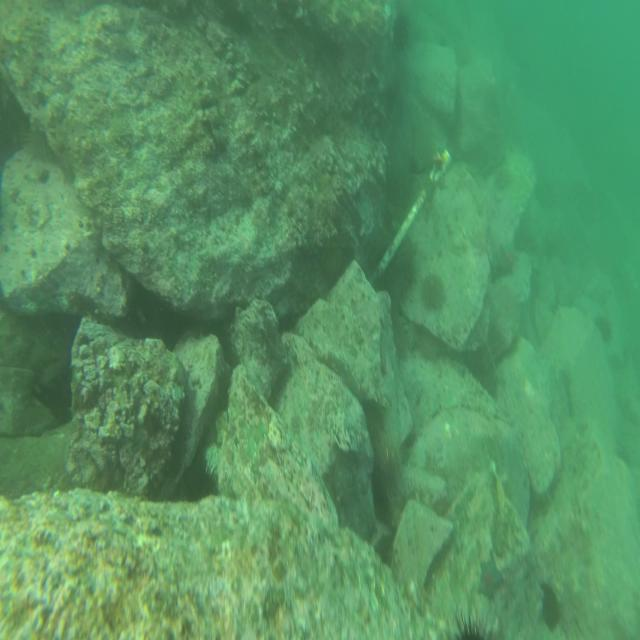echinus: (451, 601, 498, 640), (375, 438, 400, 490), (538, 580, 560, 635), (395, 244, 416, 298), (422, 269, 448, 312), (594, 307, 612, 346)
